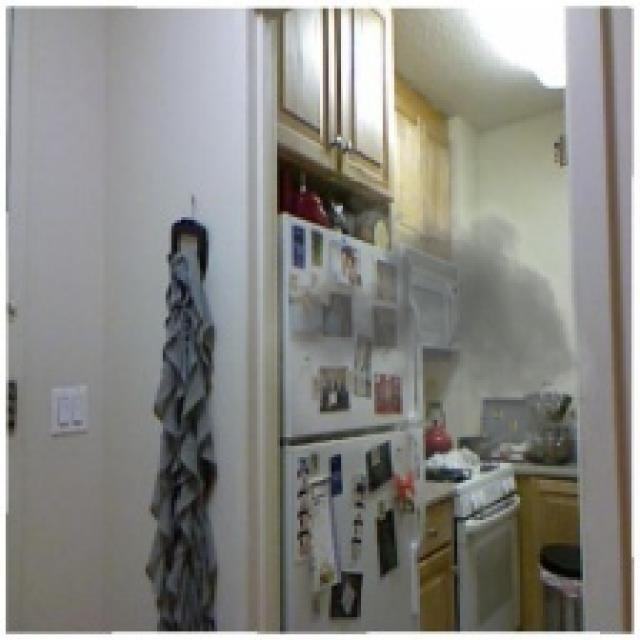smoke: (260, 168, 609, 526)
